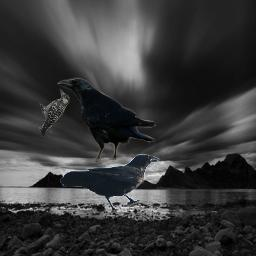Crow: (57, 77, 156, 167), (60, 154, 160, 213)
Woodpecker: (39, 88, 70, 138)
